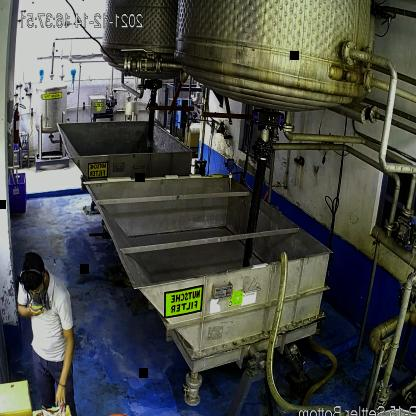mask: (26, 283, 48, 318)
no_glove: (50, 332, 80, 415)
